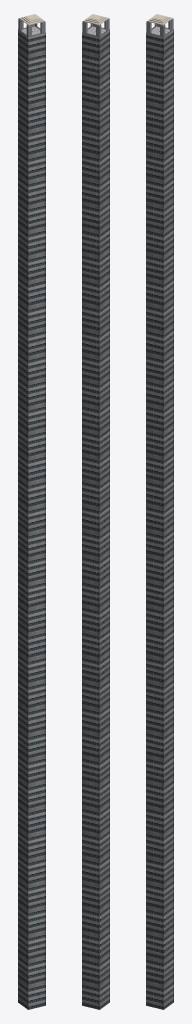
The model's file is Building 6.fbx.
3 views of the same model, side by side, from view 1: azimuth 30°, elevation 25°; view 2: azimuth 150°, elevation 25°; view 3: azimuth 330°, elevation 25° (orthographic).
Parts seen in each view (by area): view 1: Building_6; view 2: Building_6; view 3: Building_6.
Boxes of the visible parts, bbox=[...] form: Building_6: bbox=[18, 14, 45, 1009]; Building_6: bbox=[82, 14, 109, 1009]; Building_6: bbox=[146, 14, 173, 1009].
Size of the model in its own units: 25.46 by 1359 by 25.46.
9 materials, 5 textured.
